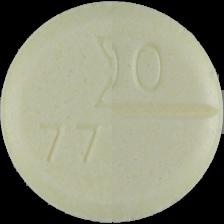0093-7772: (0, 0, 224, 224)
